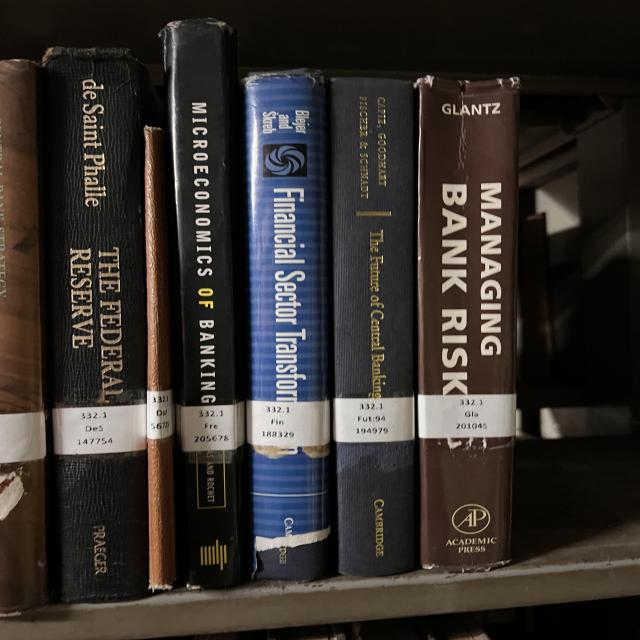Book: (43, 48, 152, 602), (162, 19, 250, 589), (417, 76, 518, 571), (245, 70, 332, 580), (330, 78, 417, 578), (0, 60, 47, 614), (143, 126, 177, 591)
Label: (52, 404, 147, 455), (418, 394, 517, 439), (247, 400, 330, 448), (333, 396, 415, 442), (178, 402, 245, 452), (0, 411, 47, 464), (147, 390, 173, 439)
